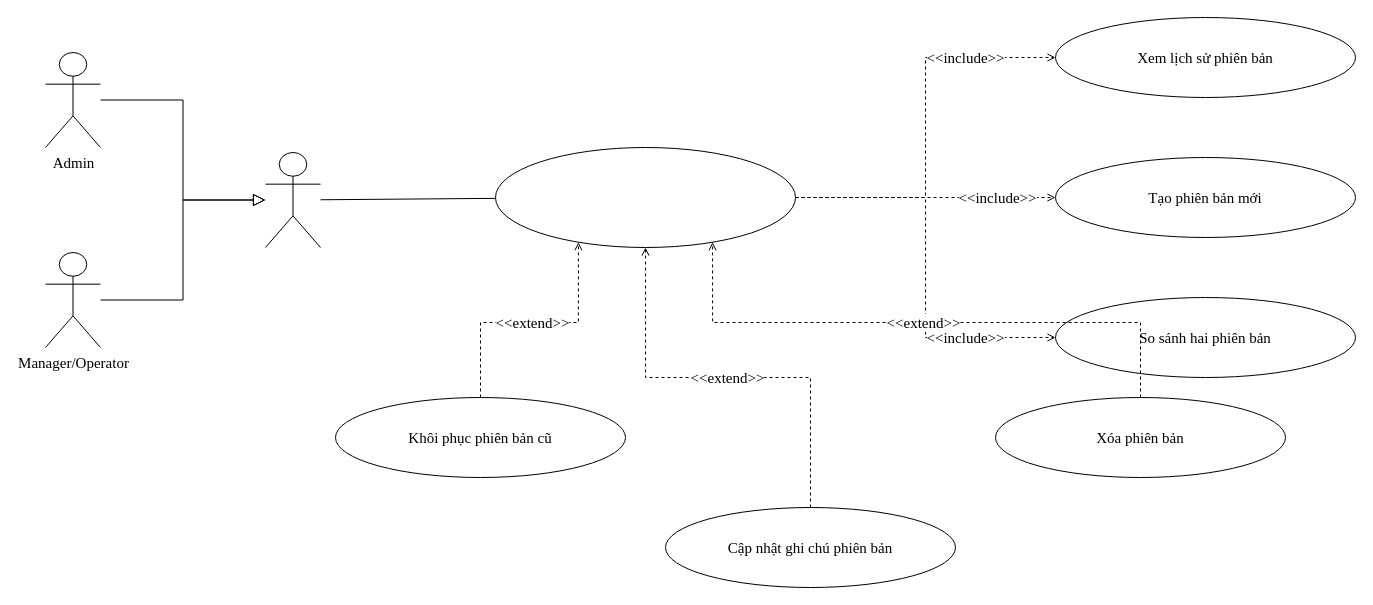
This 1373x605 diagram has some shape labels left out. The box of each missing label's shape, as (x1, y1, x2, y2) in pixels:
Nhân viên quản lý: (264, 152, 320, 248)
Quản lý phiên bản artwork: (494, 146, 796, 248)
